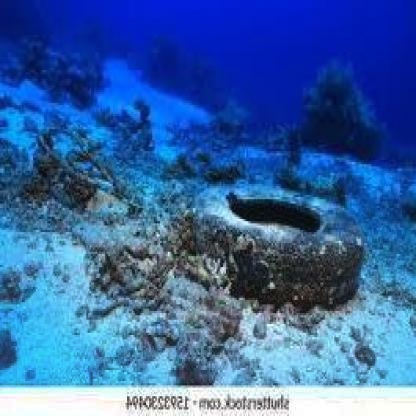tire: (179, 168, 375, 309)
